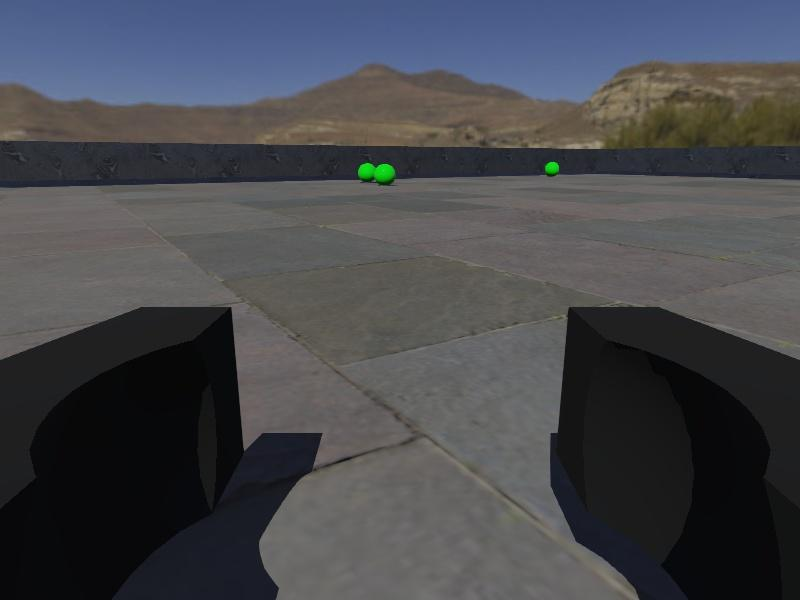green ball: (374, 162, 396, 185), (544, 159, 560, 177)
